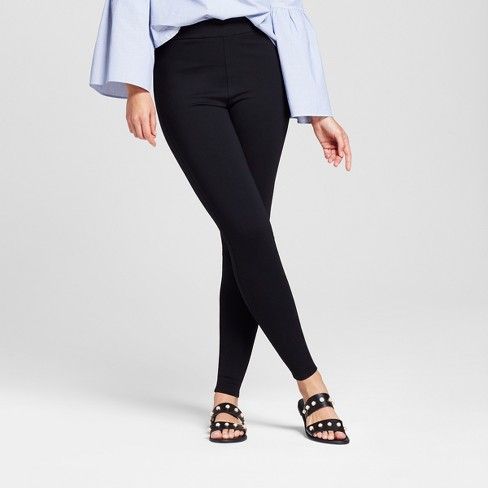feet: (195, 329, 354, 451)
